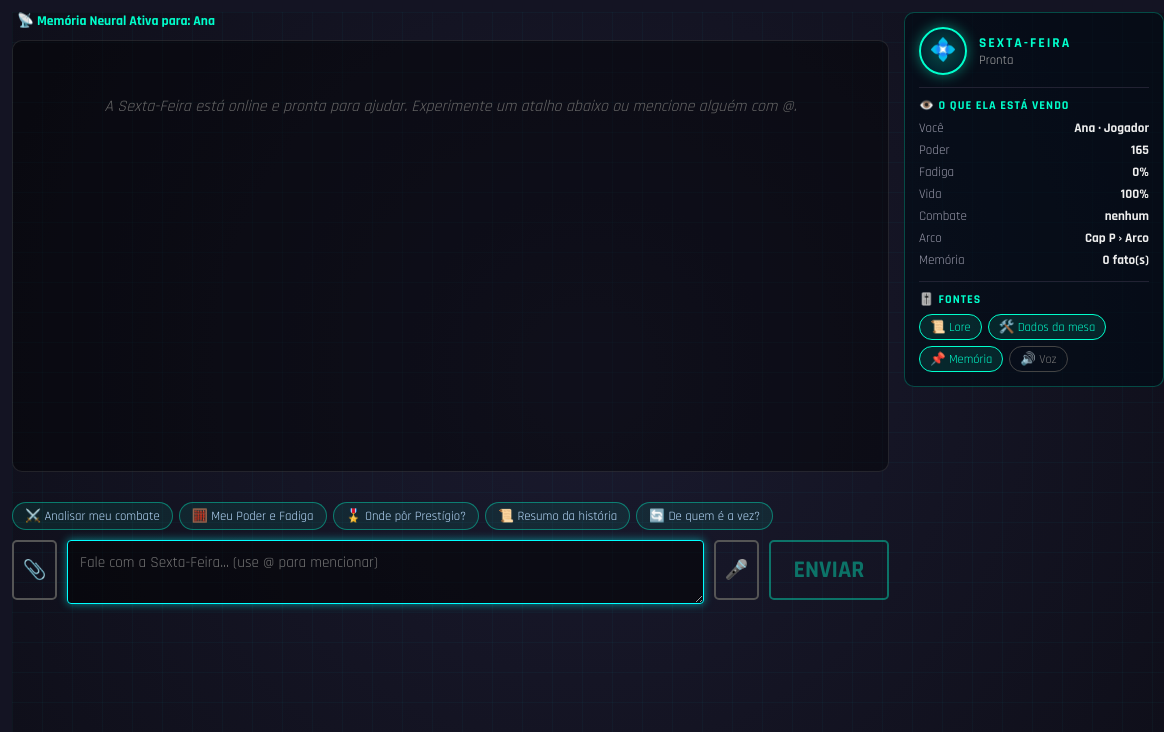
Scenario: CartaoProposta - jogador › mostra tipo, nome, alvo, resumo, descricao, efeitos e avisos
Step 1. Type "crie algo" into the text box named "Mensagem para a Sexta-Feira" → point(386, 572), box [67,540,704,604]
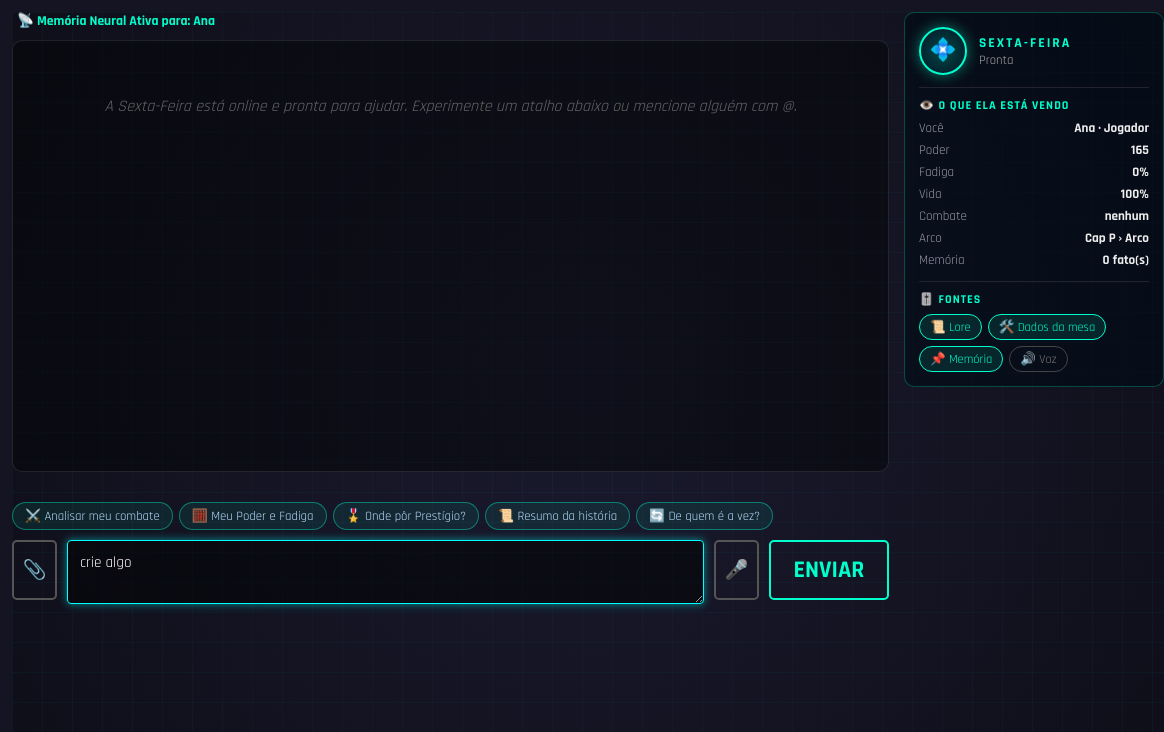
Step 2. Click the button "ENVIAR" → point(829, 570), box [769,540,889,600]
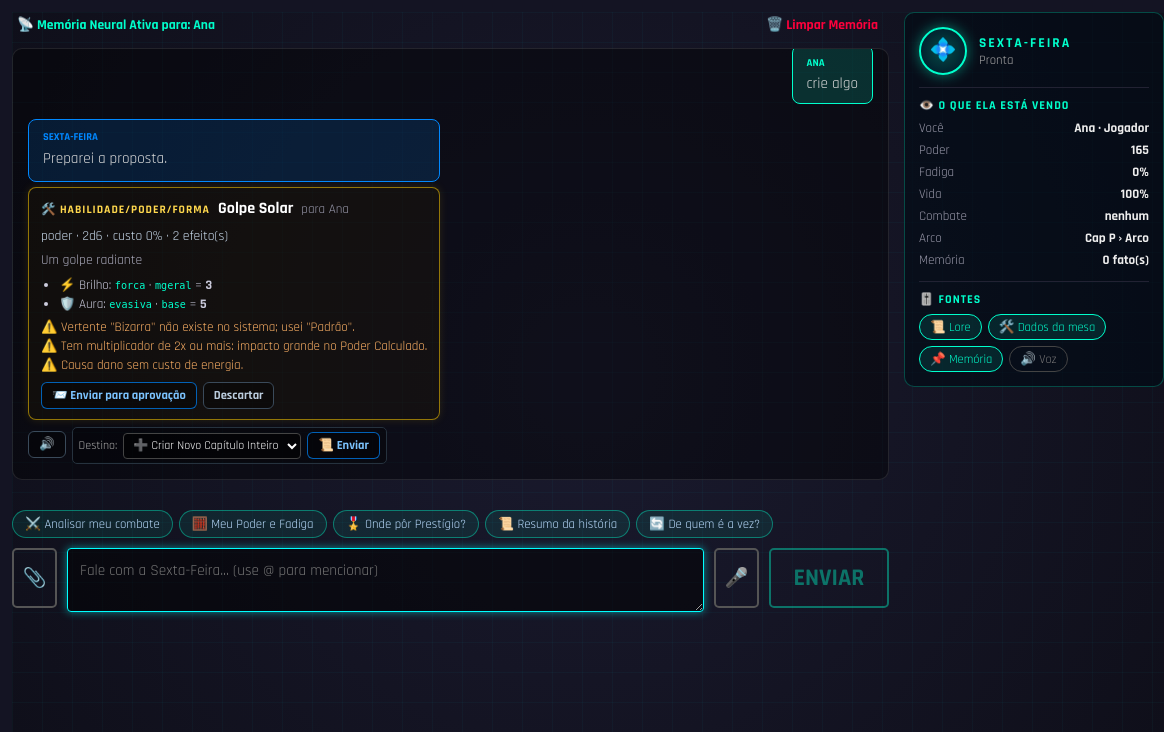
Check: the element with class "sexta-criacao" shows "Habilidade/Poder/Forma", box [60,202,210,217]
Check: the text with class "sexta-criacao-nome" reads "Golpe Solar", box [218,198,293,219]
Check: the element with class "sexta-criacao" shows "para Ana", box [28,187,440,420]
